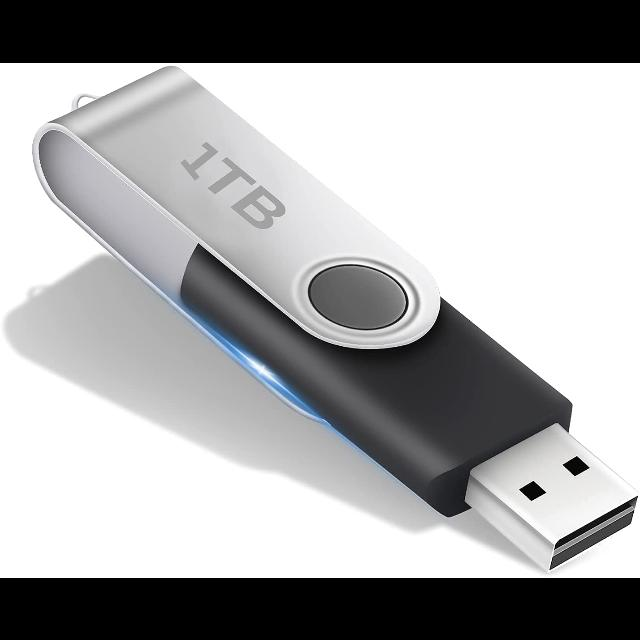USB-Flash-Drive: (30, 65, 640, 572)
